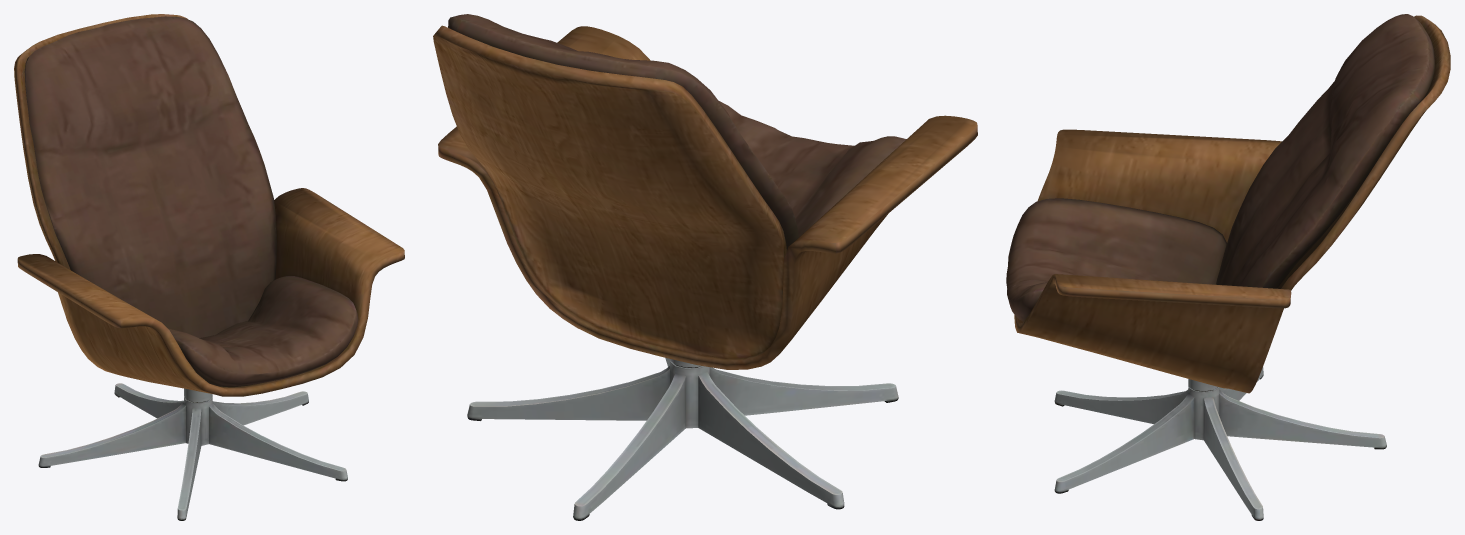
Rendered from mid_century_lounge_chair.glb.
The picture shows the model from 3 angles, left to right: view 1: azimuth 30°, elevation 25°; view 2: azimuth 150°, elevation 25°; view 3: azimuth 270°, elevation 25°; orthographic projection. The views are drawn at different scales.
Parts seen in each view (by area): view 1: mid_century_lounge_chair; view 2: mid_century_lounge_chair; view 3: mid_century_lounge_chair.
Boxes of the visible parts, x1,y1,x2,y2 form: mid_century_lounge_chair: [14, 14, 404, 520]; mid_century_lounge_chair: [433, 14, 977, 520]; mid_century_lounge_chair: [1006, 14, 1450, 520].
Size of the model in its own units: 1.01 by 1.17 by 1.19.
Materials: 1 (1 with a texture image).
